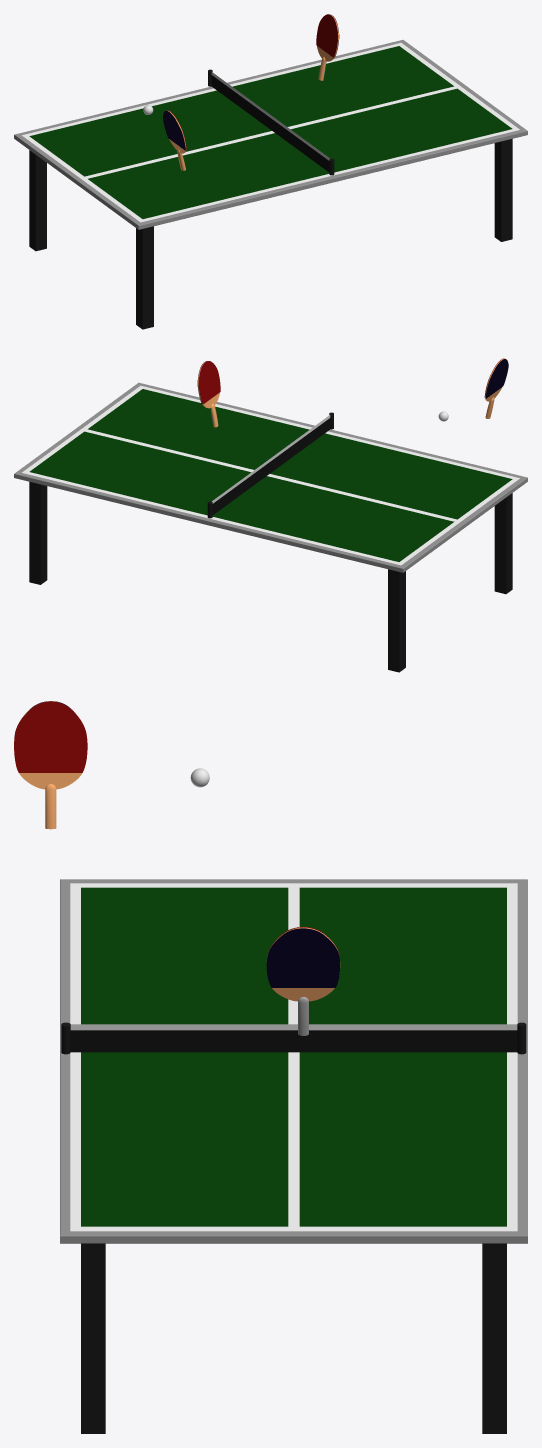
The model's file is ping.FBX.
3 renders of one model, top to bottom at view 1: azimuth 30°, elevation 25°; view 2: azimuth 150°, elevation 25°; view 3: azimuth 270°, elevation 25°, orthographic. The views are drawn at different scales.
Parts seen in each view (by area): view 1: Box001, Box002.Box004, Plane001, Box002.Box005, Box002, Line002, Line003.Line006; view 2: Box001, Box002.Box003, Plane001, Box002, Box002.Box005, Line002, Line003.Line006; view 3: Box001, Plane001, Box002.Box003, Box002.Box004, Line002.Line005, Line003.
Boxes of the visible parts, box(x1,y1,x2,y2) form: Box001: box(14, 40, 527, 229); Box002.Box004: box(494, 139, 512, 241); Plane001: box(211, 72, 329, 172); Box002.Box005: box(136, 226, 153, 329); Box002: box(29, 150, 46, 251); Line002: box(316, 14, 338, 57); Line003.Line006: box(163, 110, 185, 150); Box001: box(14, 382, 527, 572); Box002.Box003: box(29, 482, 47, 584); Plane001: box(212, 415, 330, 515); Box002: box(388, 569, 405, 672); Box002.Box005: box(494, 493, 512, 594); Line002: box(198, 361, 220, 404); Line003.Line006: box(486, 359, 508, 398); Box001: box(60, 879, 527, 1243); Plane001: box(70, 1024, 517, 1052); Box002.Box003: box(482, 1243, 506, 1433); Box002.Box004: box(81, 1243, 105, 1433); Line002.Line005: box(14, 701, 87, 772); Line003: box(266, 928, 339, 987).
Size of the model in its own units: 108 by 58.03 by 65.71.
